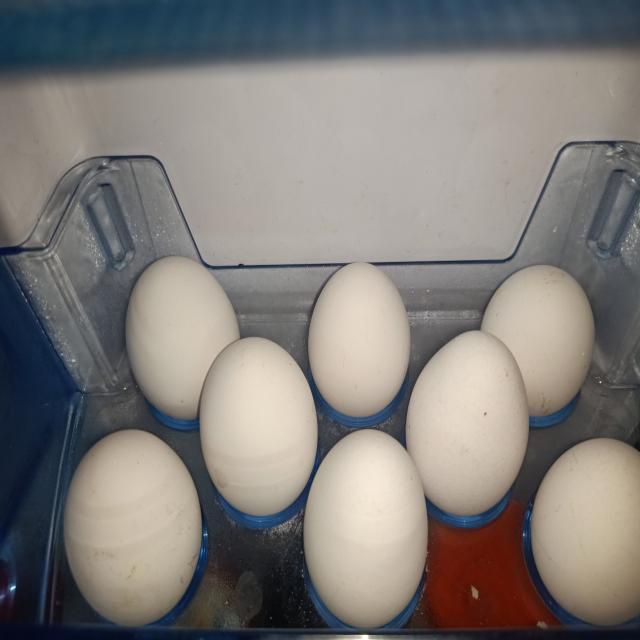Egg: (59, 416, 208, 640), (287, 421, 430, 640), (113, 228, 244, 425), (202, 329, 318, 524), (474, 253, 605, 425), (531, 433, 640, 636), (413, 327, 523, 520), (300, 248, 414, 425)
